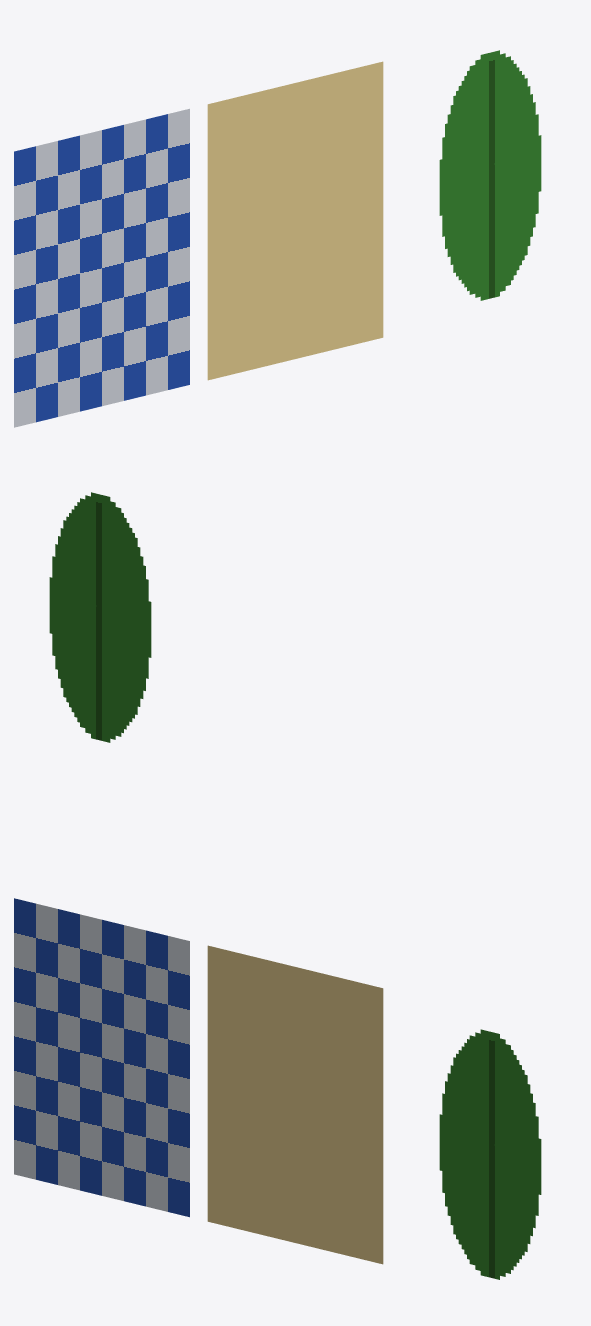
File: material_panels.glb
3 views of the same model, one above another, from view 1: azimuth 30°, elevation 25°; view 2: azimuth 150°, elevation 25°; view 3: azimuth 330°, elevation 25° (orthographic).
Visible parts, largest first — view 1: Panels; view 2: Panels; view 3: Panels.
Part boxes in pixels (x1,y1,x2,y2): Panels: (14,50,541,427); Panels: (49,492,151,742); Panels: (14,898,541,1279).
Size of the model in its own units: 3.2 by 1.5 by 0.
Materials: 3 (2 with a texture image).
